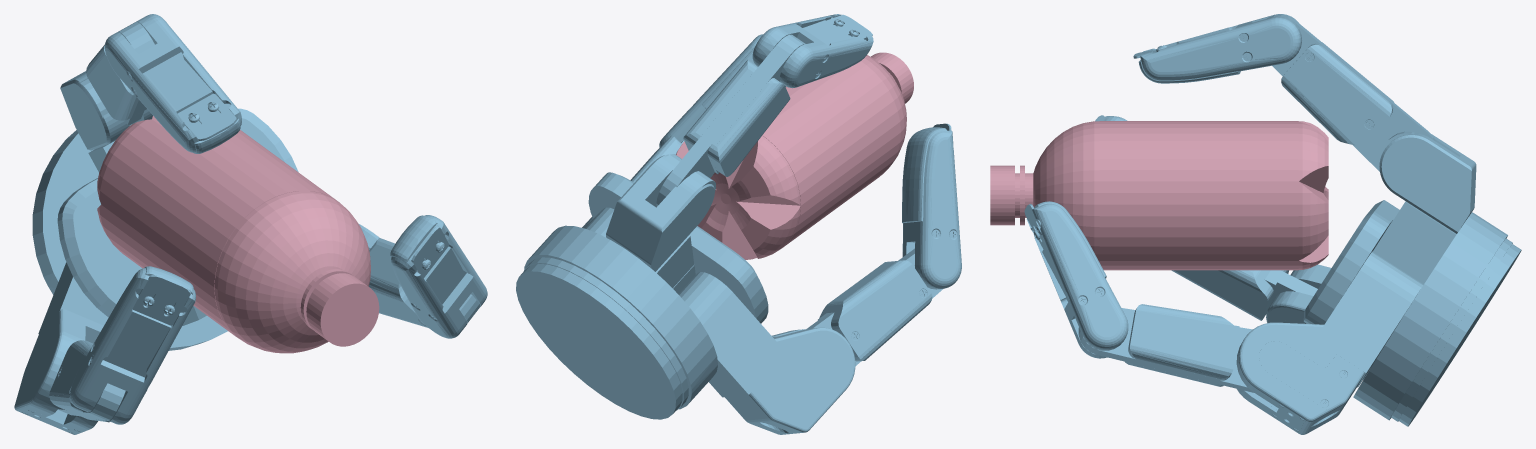
3 renders of one model, left to right at view 1: azimuth 30°, elevation 25°; view 2: azimuth 150°, elevation 25°; view 3: azimuth 270°, elevation 25°, orthographic. The views are drawn at different scales.
Visible parts, largest first — view 1: world, water_bottle.stl; view 2: world, water_bottle.stl; view 3: world, water_bottle.stl.
Part boxes in pixels (<box>): world: <box>14,14,487,434</box>; water_bottle.stl: <box>97,116,379,353</box>; world: <box>516,14,961,434</box>; water_bottle.stl: <box>676,52,913,259</box>; world: <box>1024,14,1521,434</box>; water_bottle.stl: <box>990,121,1328,270</box>.
Size of the model in its own units: 0.1645 by 0.1697 by 0.2144.
